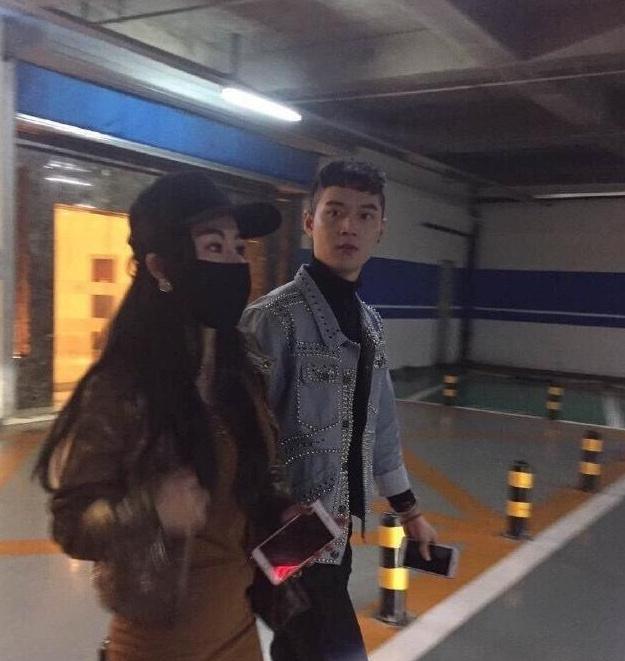face: (313, 183, 380, 268)
face_mask: (177, 212, 244, 313)
